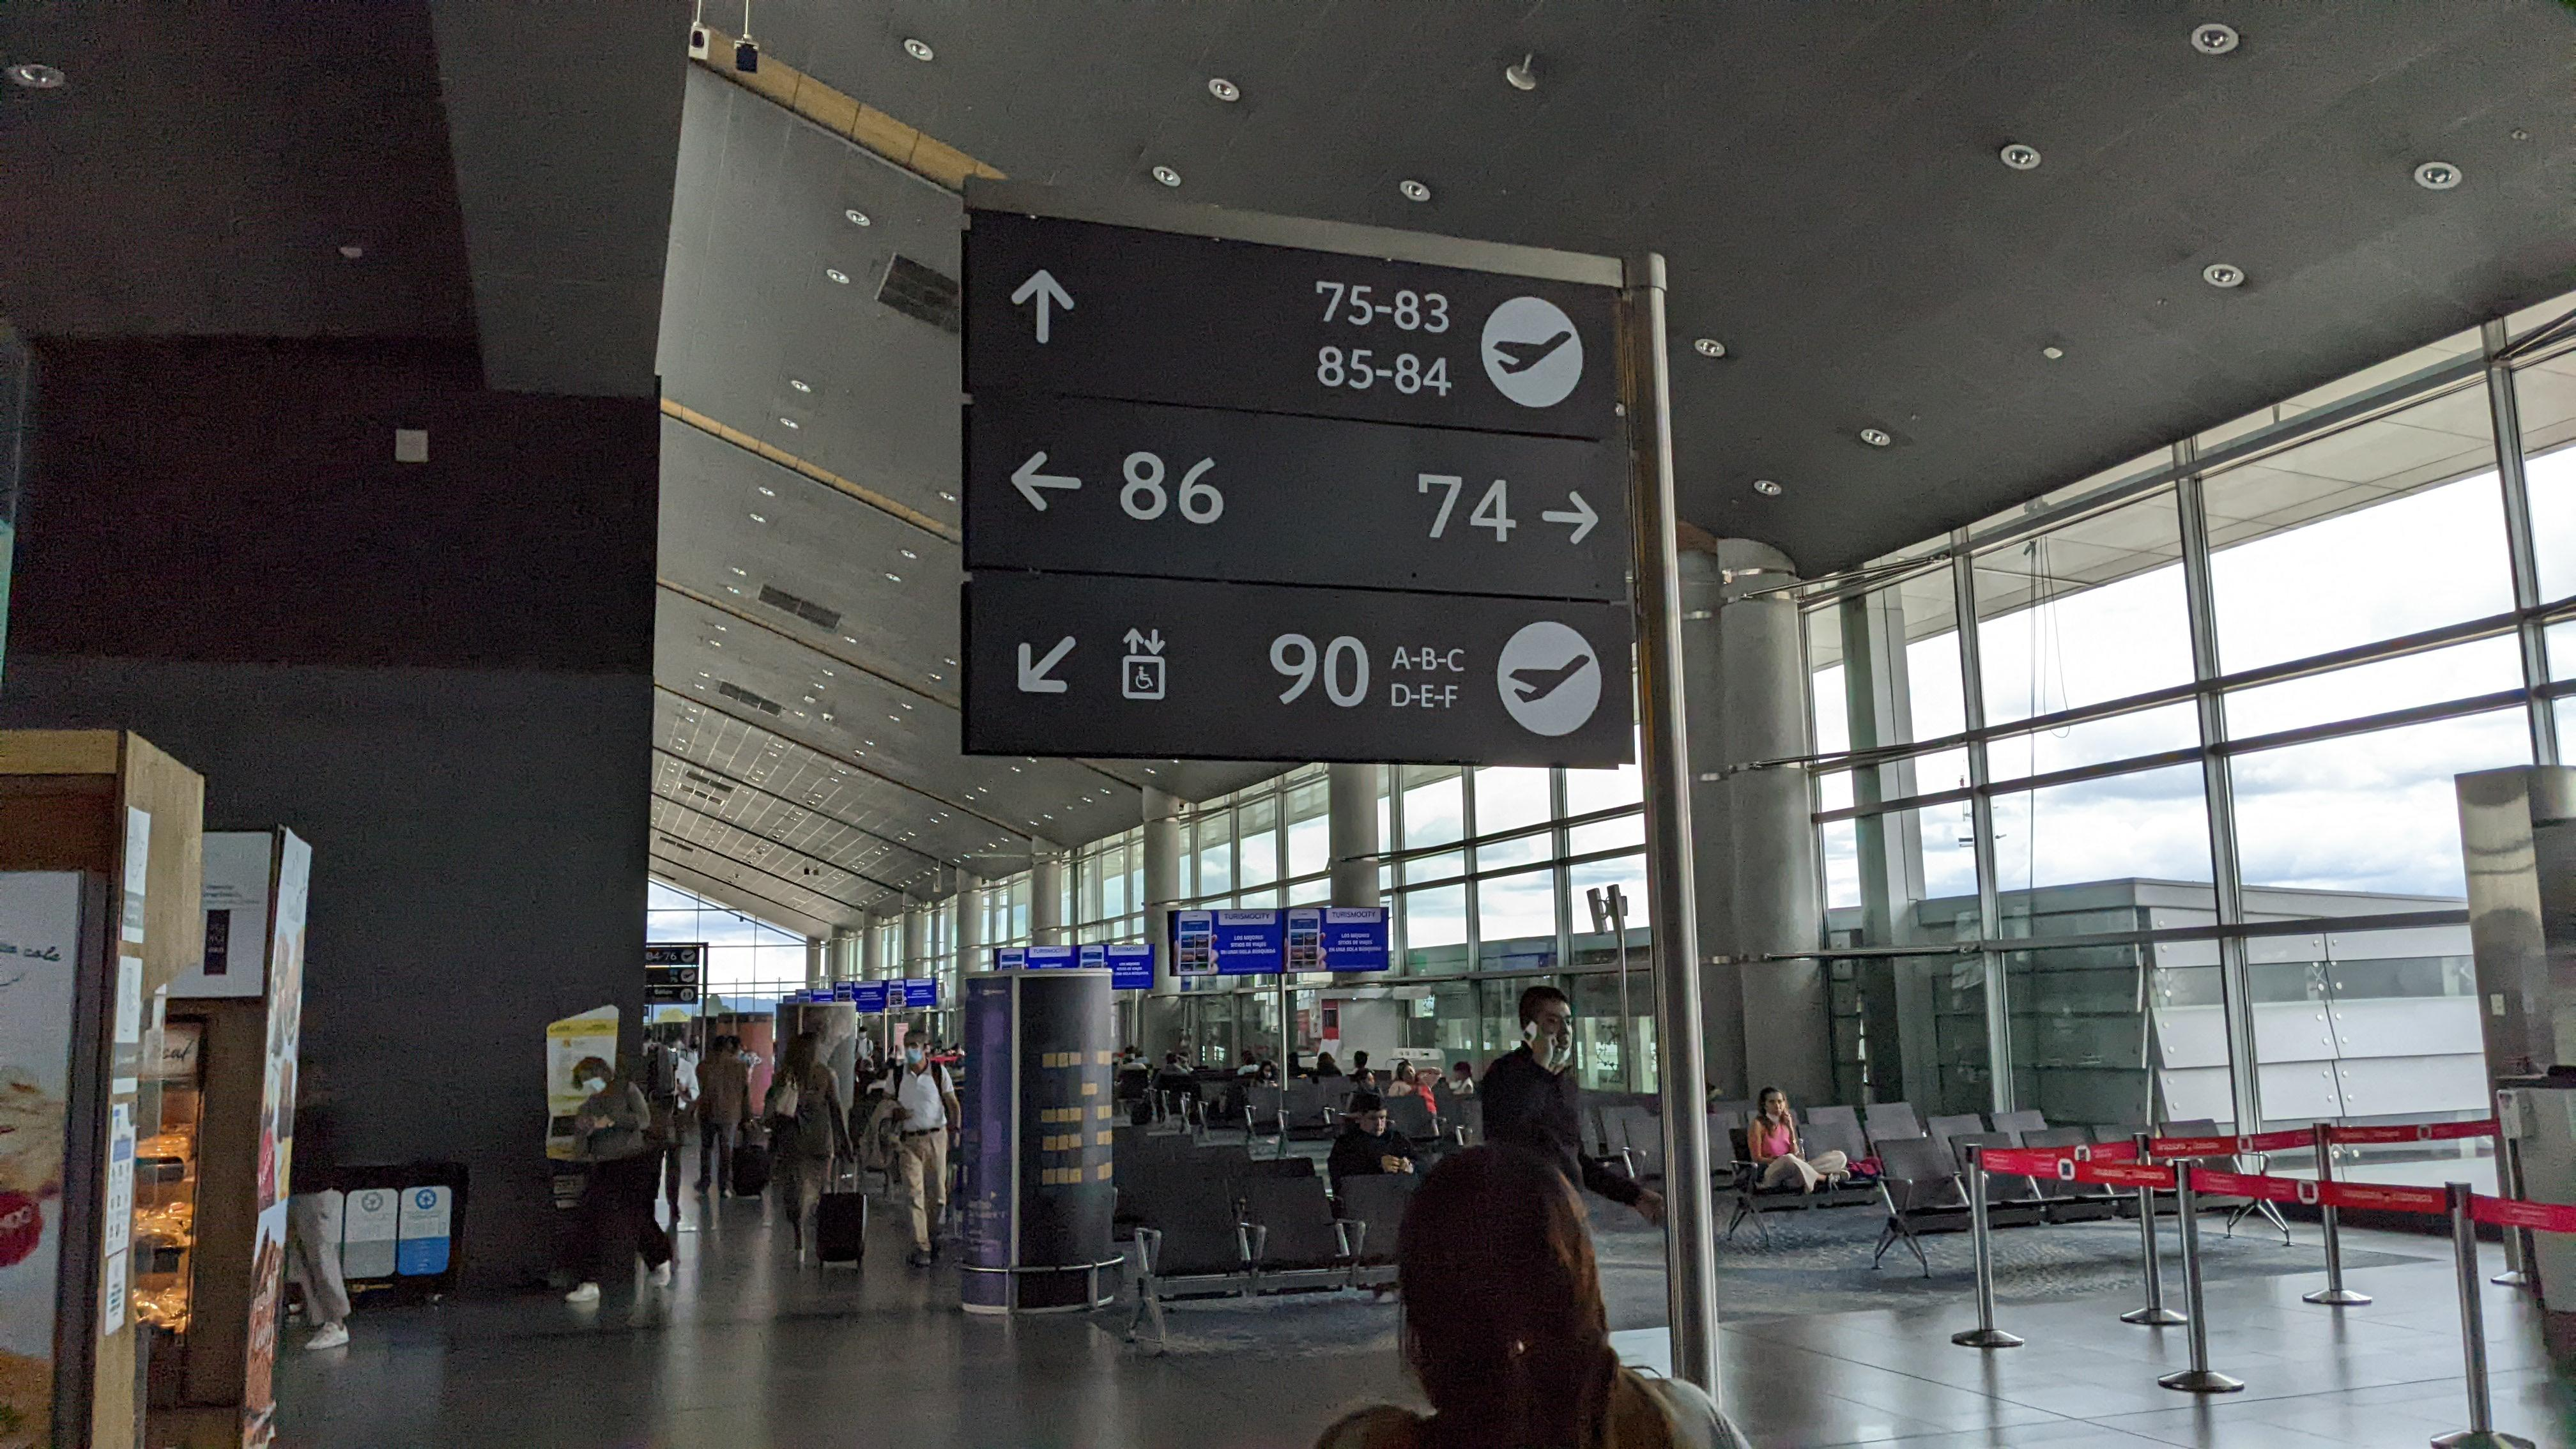airplane symbol: (1502, 648, 1589, 713), (1491, 320, 1575, 380), (683, 950, 694, 961), (683, 971, 694, 980)
bathrooms: (681, 989, 694, 1000)
down arrow: (1143, 626, 1168, 655)
handicapped symbol: (1134, 665, 1154, 692)
left arrow: (1005, 448, 1088, 518)
right arrow: (1537, 487, 1603, 548)
up arrow: (1008, 265, 1079, 345), (1122, 626, 1145, 655)
